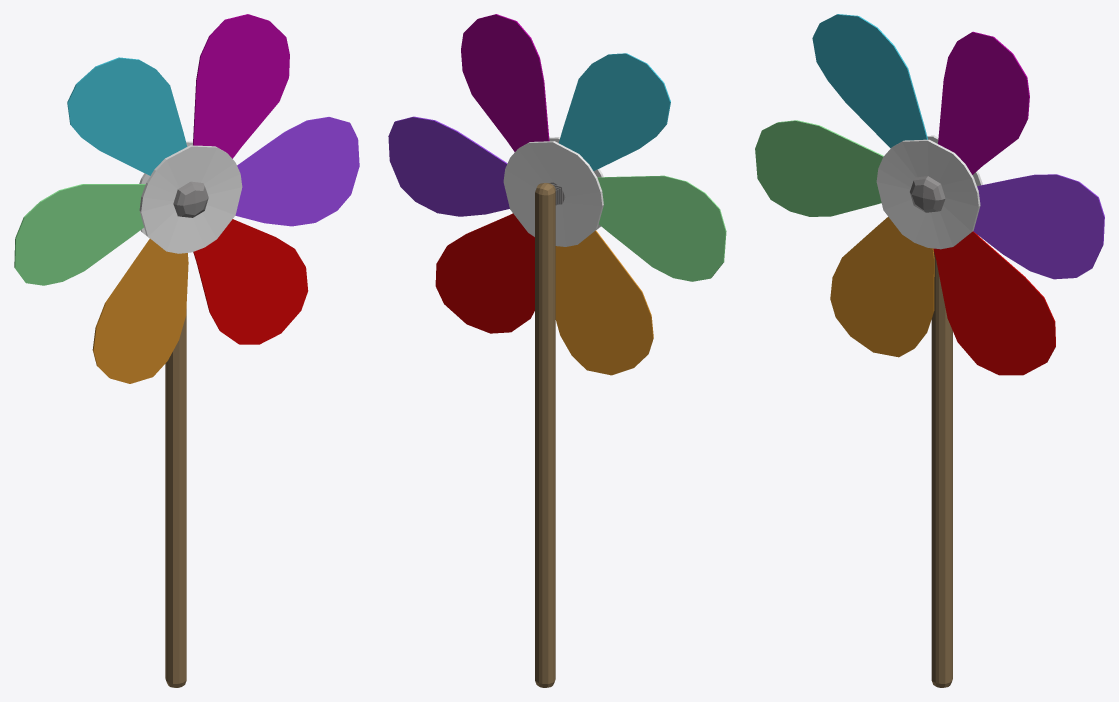
Rendered from Wind_toy.fbx.
The picture shows the model from 3 angles, left to right: view 1: azimuth 30°, elevation 25°; view 2: azimuth 150°, elevation 25°; view 3: azimuth 330°, elevation 25°; orthographic projection. The views are drawn at different scales.
Visible parts, largest first — view 1: pPlane4, pPlane3, pPlane5, pPlane6, pPlane8, pPlane7, pDisc1, pCube117, pCube118; view 2: pCube117, pPlane8, pPlane7, pPlane5, pPlane6, pPlane4, pPlane3, pDisc2; view 3: pPlane5, pPlane4, pPlane8, pPlane7, pPlane3, pPlane6, pCube117, pDisc1, pCube118.
Boxes of the visible parts, x1,y1,x2,y2 form: pPlane4: (235, 117, 359, 226); pPlane3: (193, 14, 289, 158); pPlane5: (193, 219, 308, 344); pPlane6: (67, 57, 187, 175); pPlane8: (92, 238, 188, 383); pPlane7: (14, 184, 145, 285); pDisc1: (139, 145, 242, 253); pCube117: (165, 309, 186, 687); pCube118: (173, 181, 208, 217); pCube117: (535, 183, 555, 687); pPlane8: (555, 230, 653, 375); pPlane7: (597, 175, 726, 281); pPlane5: (435, 213, 534, 333); pPlane6: (559, 53, 670, 171); pPlane4: (388, 116, 509, 216); pPlane3: (461, 14, 549, 151); pDisc2: (503, 141, 603, 246); pPlane5: (933, 231, 1055, 375); pPlane4: (973, 174, 1104, 279); pPlane8: (830, 217, 934, 357); pPlane7: (755, 120, 883, 216); pPlane3: (938, 31, 1029, 174); pPlane6: (812, 14, 927, 148); pCube117: (931, 251, 952, 687); pDisc1: (876, 139, 980, 249); pCube118: (910, 176, 945, 212).
Bounding box in the file's own units: 59.02 × 109 × 7.32.
